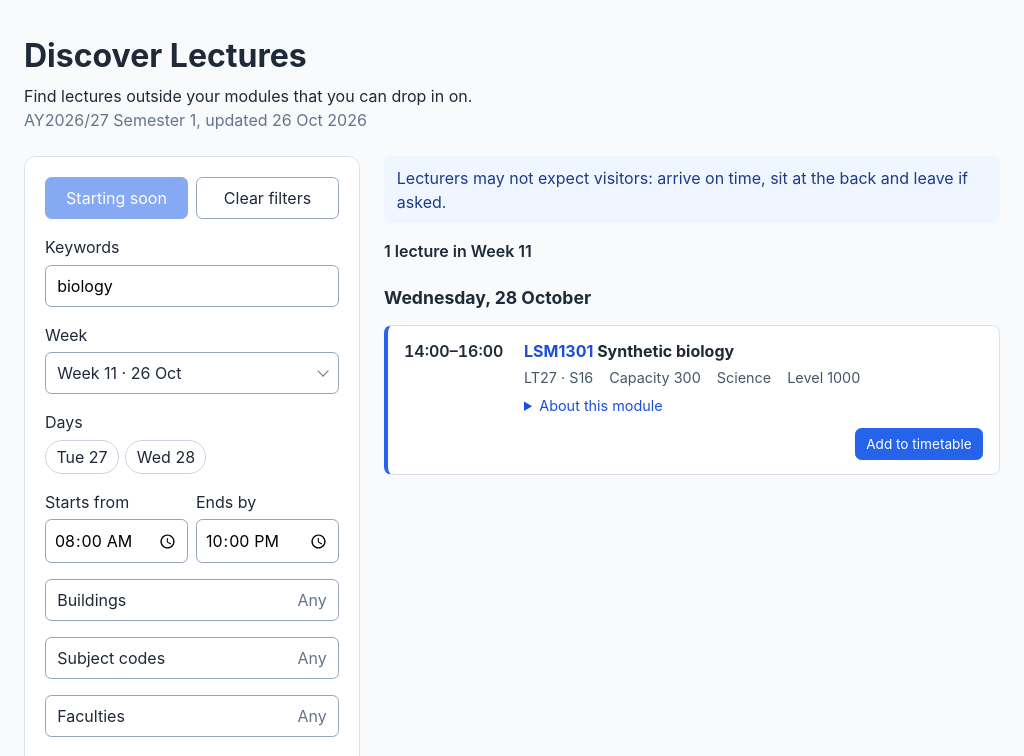
Test: toggles days and clears filters while keeping the week
The width and height of the screenshot is (1024, 756).
Expected: the text "1 lecture in Week 11" is shown, [384, 241, 532, 261]
Click the button "Wed 28" at (166, 457), box [125, 440, 206, 474]
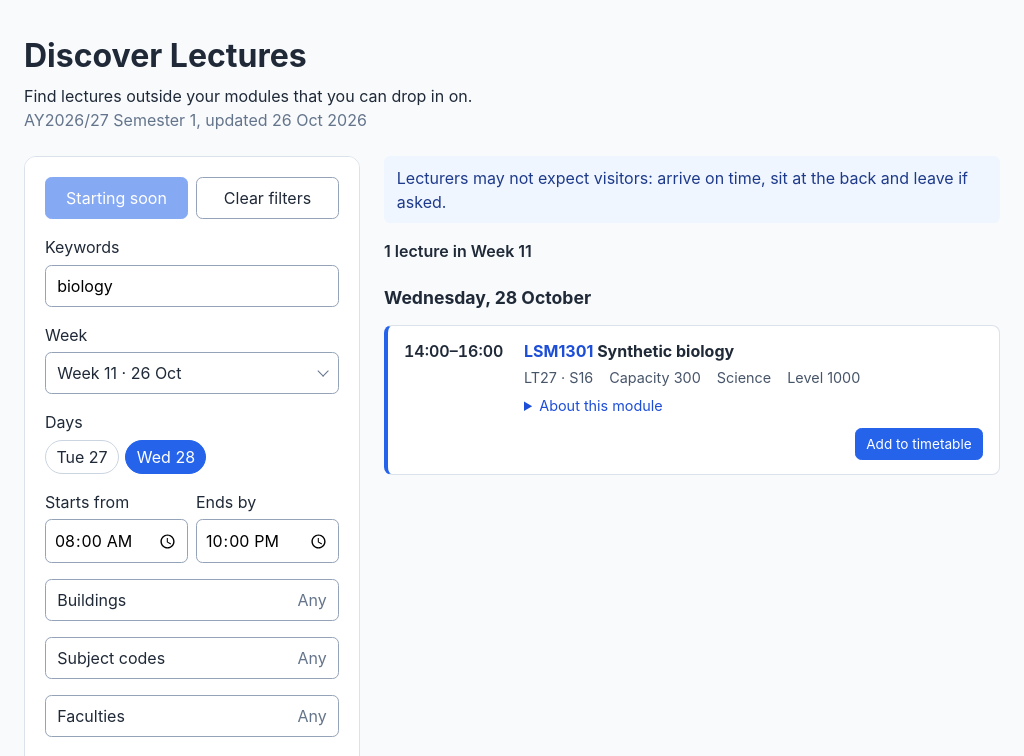
Expected: the text "1 lecture in Week 11" is shown, [384, 241, 532, 261]
Click the button "Clear filters" at (268, 198), box [196, 177, 339, 219]
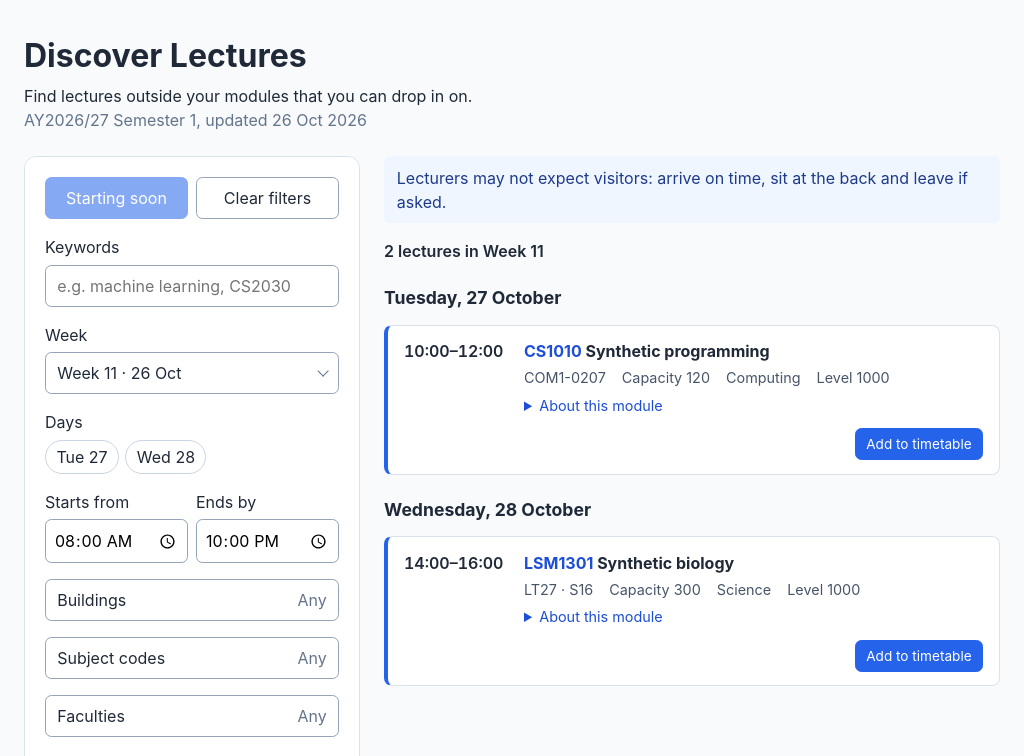
Expected: the text "2 lectures in Week 11" is shown, [384, 241, 544, 261]
Expected: the search field labelled "Keywords" is empty, [45, 265, 339, 307]
